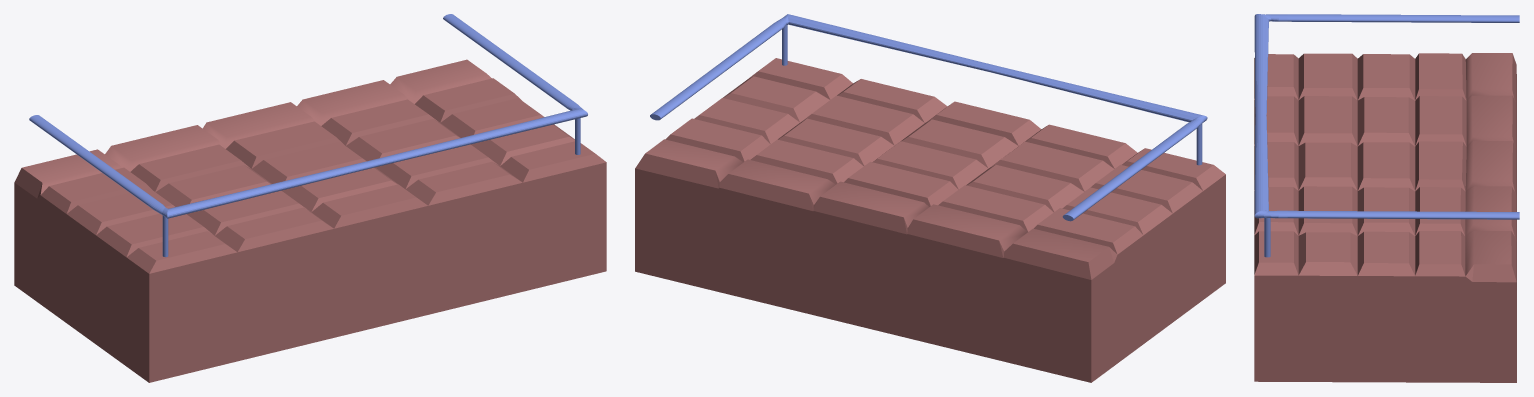
Rendered from wall_jump.fbx.
The picture shows the model from 3 angles, left to right: view 1: azimuth 30°, elevation 25°; view 2: azimuth 150°, elevation 25°; view 3: azimuth 270°, elevation 25°; orthographic projection. The views are drawn at different scales.
Visible parts, largest first — view 1: pCylinder6; view 2: pCylinder6; view 3: pCylinder6.
Part boxes in pixels (x1=…): pCylinder6: x1=14, y1=14, x2=606, y2=382; pCylinder6: x1=635, y1=14, x2=1225, y2=382; pCylinder6: x1=1254, y1=14, x2=1519, y2=382.
Size of the model in its own units: 6.6 by 2.29 by 3.41.
